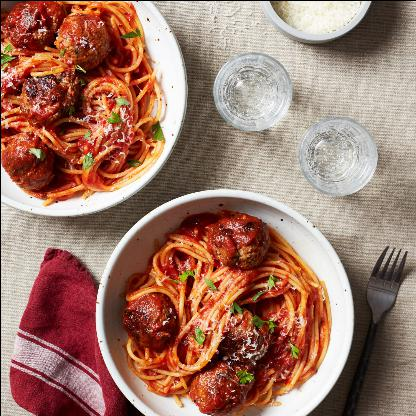spaghetti: (119, 207, 332, 415), (1, 1, 164, 204)
